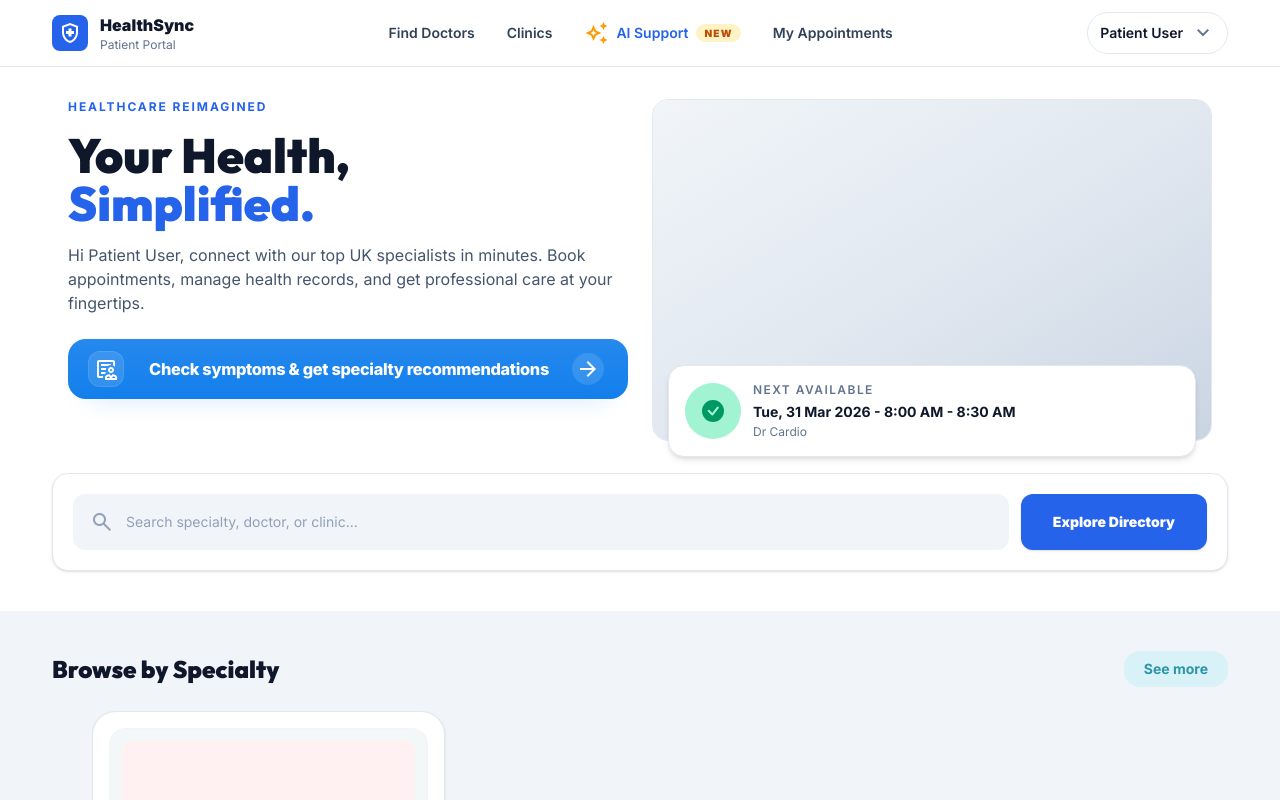
PatientDashboard › keeps the shared footer and sorts appointments newest first in the appointments view
Click the button "My Appointments" at [833, 33], box [761, 15, 905, 51]
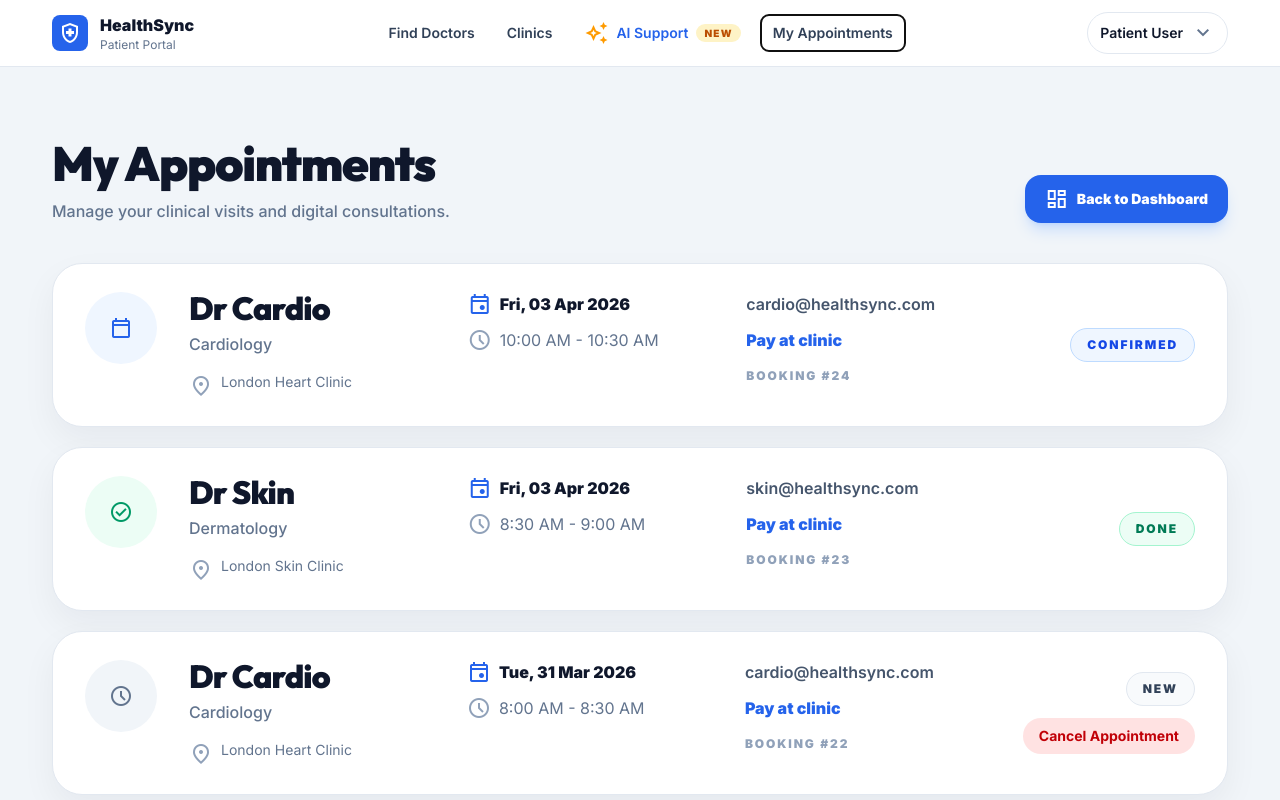
Expected: the heading "My Appointments" is shown, [52, 139, 450, 187]
Expected: the element with test id "patient-booking-" shows "Booking #24", [52, 263, 1228, 427]
Expected: the element with test id "patient-booking-" shows "Booking #23", [52, 447, 1228, 611]
